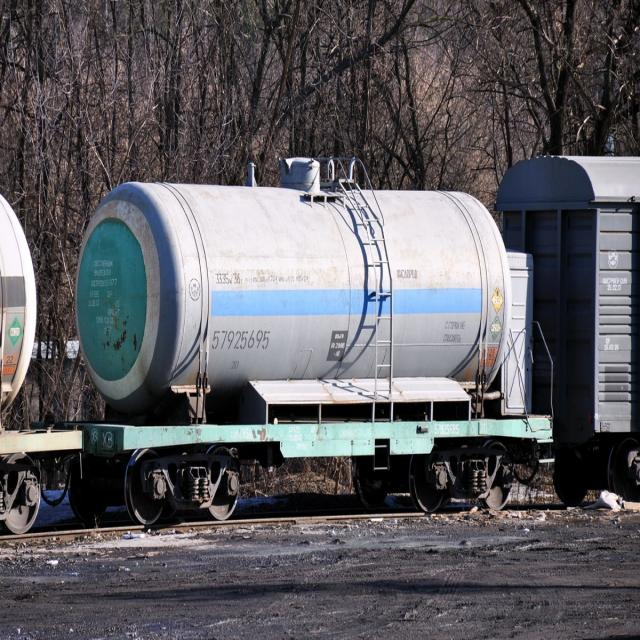boxcar: (490, 116, 640, 517)
tank: (66, 126, 518, 534), (0, 164, 58, 546)
